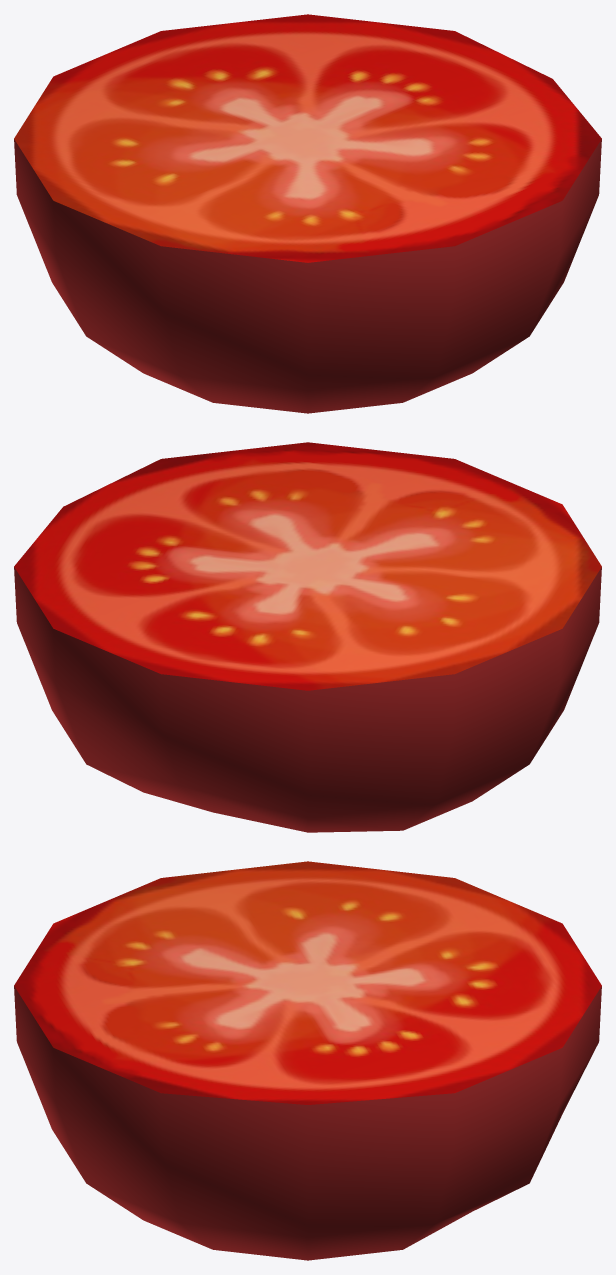
Rendered from Tomatoes2.fbx.
The picture shows the model from 3 angles, top to bottom: view 1: azimuth 30°, elevation 25°; view 2: azimuth 150°, elevation 25°; view 3: azimuth 270°, elevation 25°; orthographic projection.
Visible parts, largest first — view 1: Tomato_red; view 2: Tomato_red; view 3: Tomato_red.
Part boxes in pixels (bbox=[...]): Tomato_red: bbox=[14, 14, 601, 413]; Tomato_red: bbox=[14, 442, 601, 832]; Tomato_red: bbox=[14, 861, 601, 1260].
Size of the model in its own units: 195 by 83.67 by 199.
Materials: 1 (1 with a texture image).
